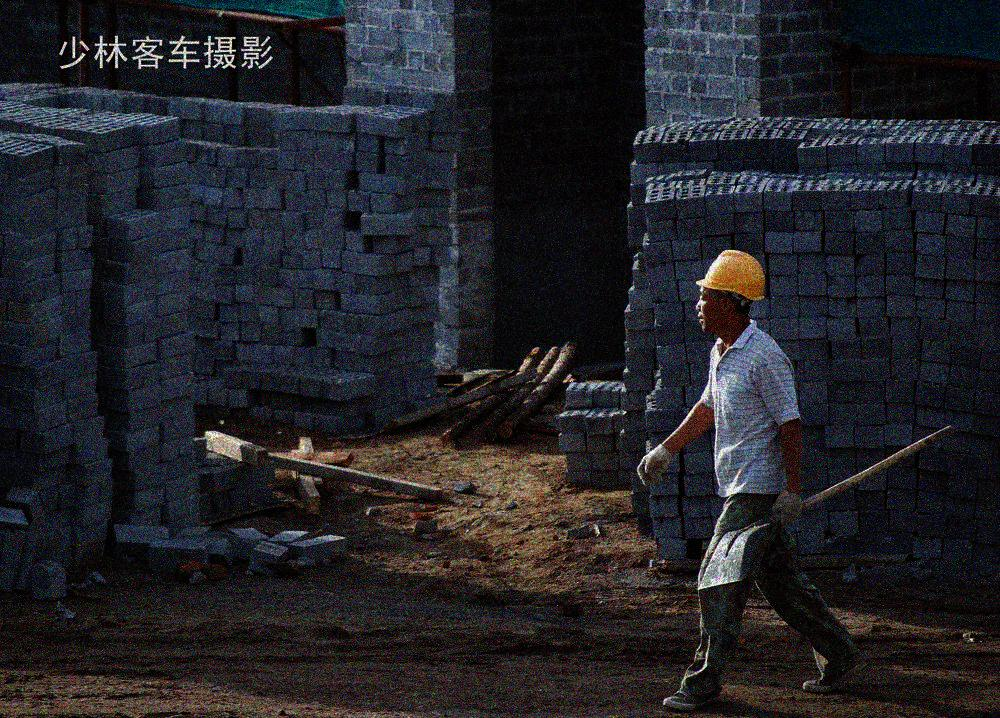helmet: (690, 247, 765, 336)
